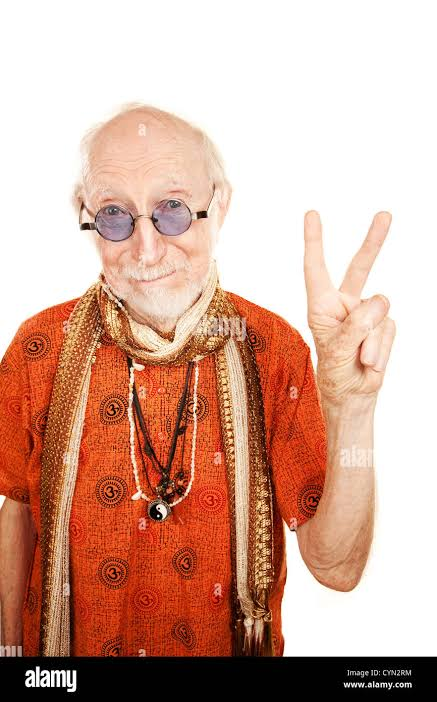peace_sign: (288, 200, 403, 402)
